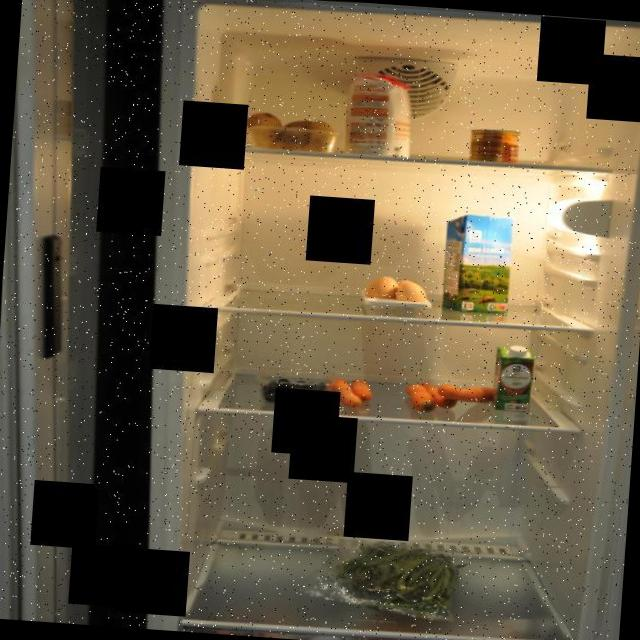Huevos: (368, 271, 432, 309)
Leche: (443, 209, 519, 318)
Patata: (244, 110, 343, 154)
Zanahoria: (404, 377, 496, 418), (329, 375, 380, 414)
